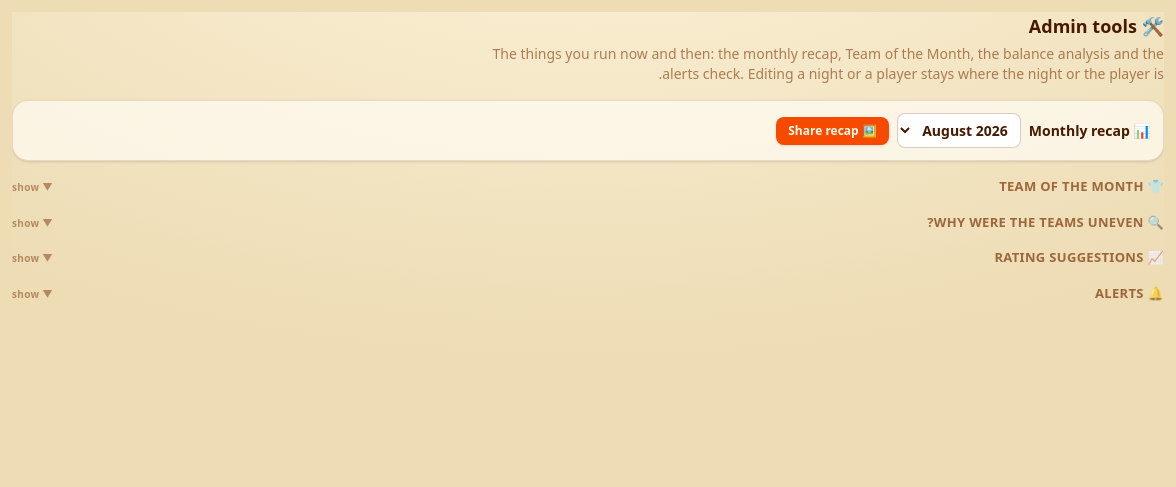
Test: the organiser’s workbench › reads the nights once the analysis is opened
Click the button "🔍 Why were the teams uneven? ▼ show" at {"x": 1039, "y": 222}, box left=12, top=212, right=1164, bottom=232
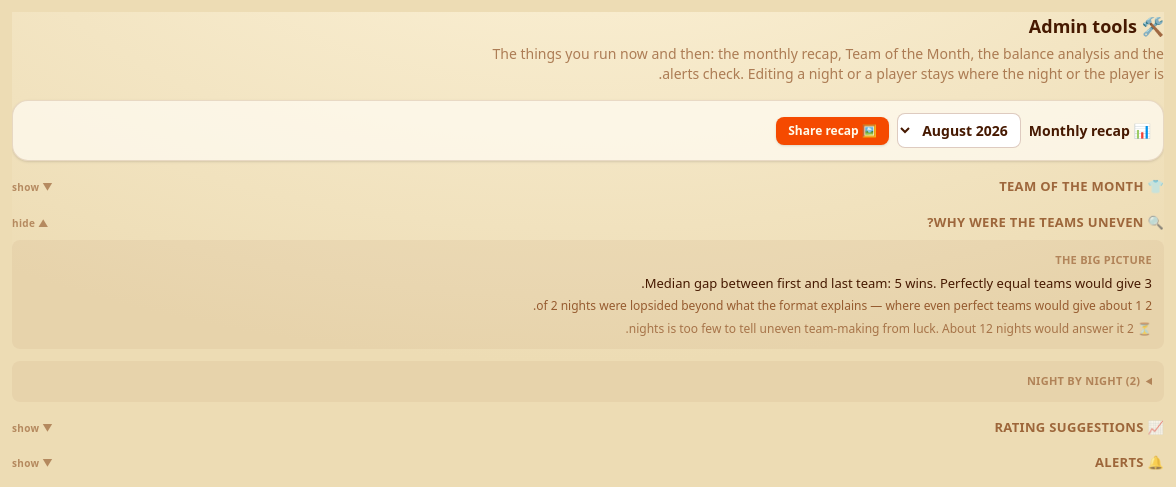
Now the text "The big picture" is shown, box left=1055, top=252, right=1152, bottom=267
Now the heading "Night by night (2)" is shown, box left=1027, top=373, right=1140, bottom=388
